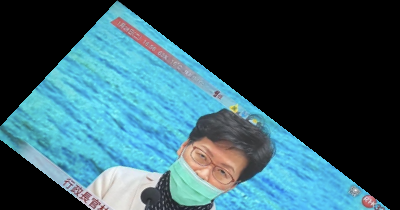mask_weared_incorrect: (164, 99, 278, 210)
